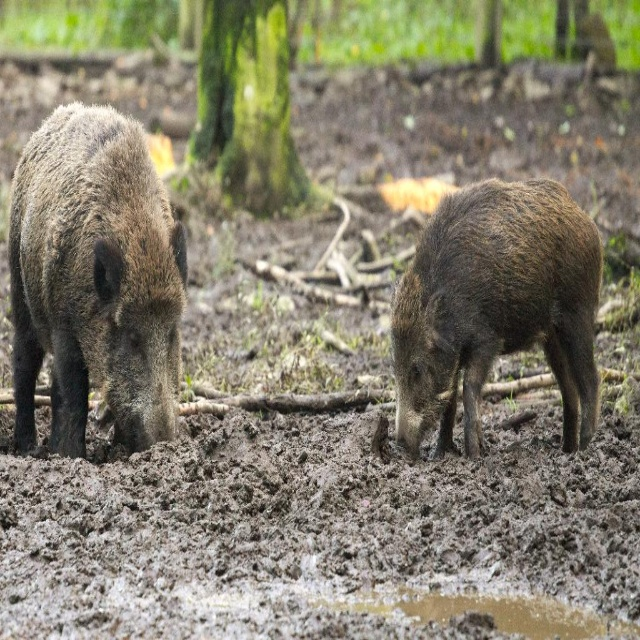Pig: (6, 97, 189, 461), (387, 173, 610, 460)
